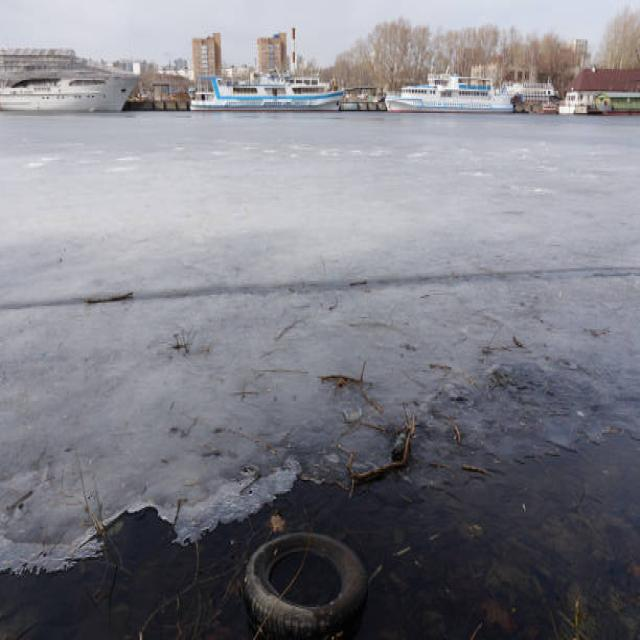tire: (242, 530, 368, 637)
